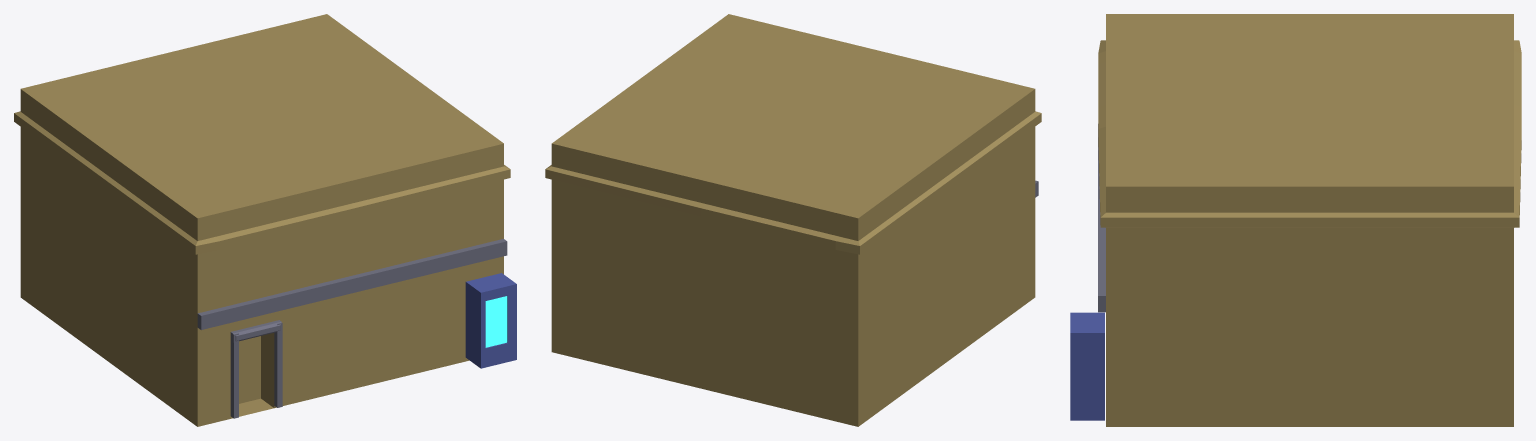
The picture shows the model from 3 angles, left to right: view 1: azimuth 30°, elevation 25°; view 2: azimuth 150°, elevation 25°; view 3: azimuth 270°, elevation 25°; orthographic projection. The views are drawn at different scales.
Visible parts, largest first — view 1: Cube, Cube.006, Cube.007, Cube.008, Cube.004, Cube.005, Cube.002; view 2: Cube; view 3: Cube, Cube.007, Cube.006.
Boxes of the visible parts, box(x1,y1,x2,y2) form: Cube: box(14, 14, 510, 426); Cube.006: box(197, 239, 507, 329); Cube.007: box(465, 273, 516, 368); Cube.008: box(485, 296, 507, 347); Cube.004: box(230, 333, 238, 418); Cube.005: box(274, 322, 282, 407); Cube.002: box(230, 320, 281, 342); Cube: box(545, 14, 1041, 426); Cube: box(1098, 14, 1521, 426); Cube.007: box(1070, 312, 1104, 420); Cube.006: box(1098, 124, 1105, 312).
Size of what is drawn, in the model's own units: 12.8 by 8.1 by 13.79.
